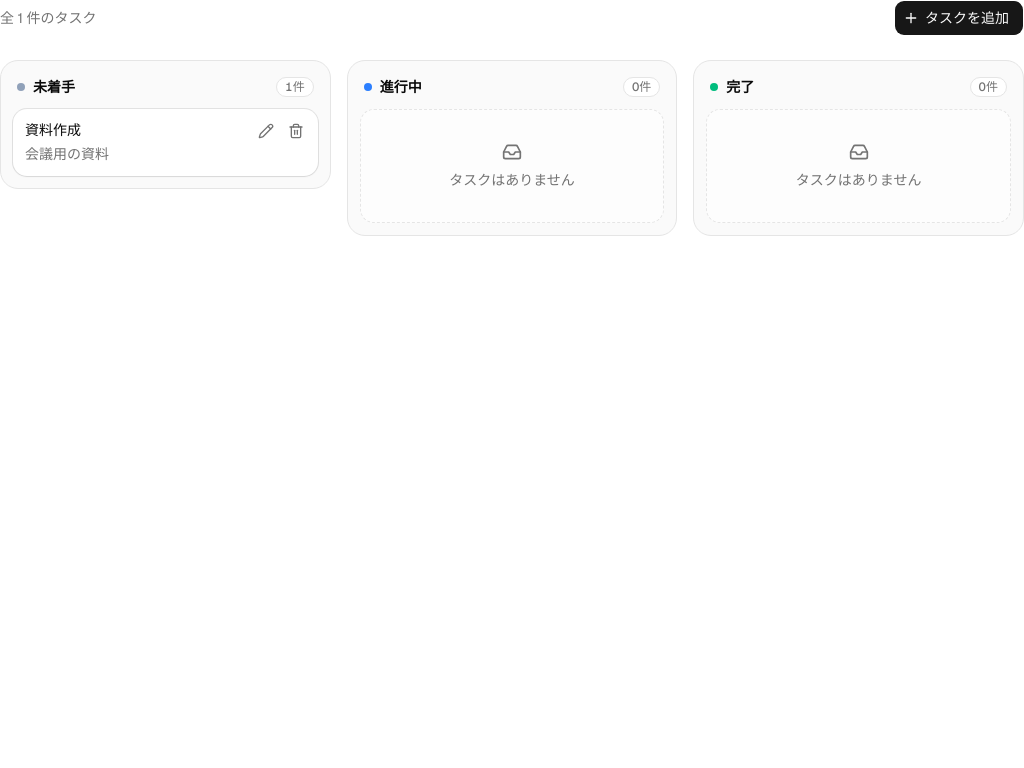
Test: KanbanBoard › 編集 › タイトルを空にして保存すると、エラーを表示して更新しない
Click the button named "「資料作成」を編集": (266, 131) top-left (252, 117), bottom-right (280, 145)
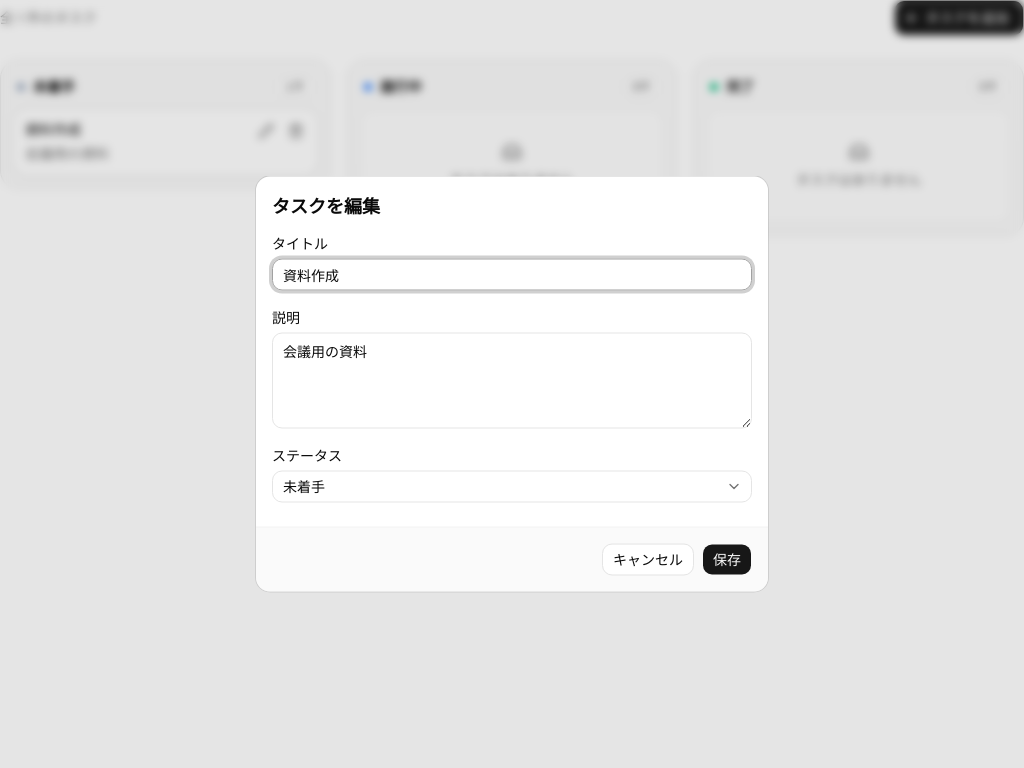
Clear the field labelled "タイトル": (512, 274) top-left (272, 258), bottom-right (752, 290)
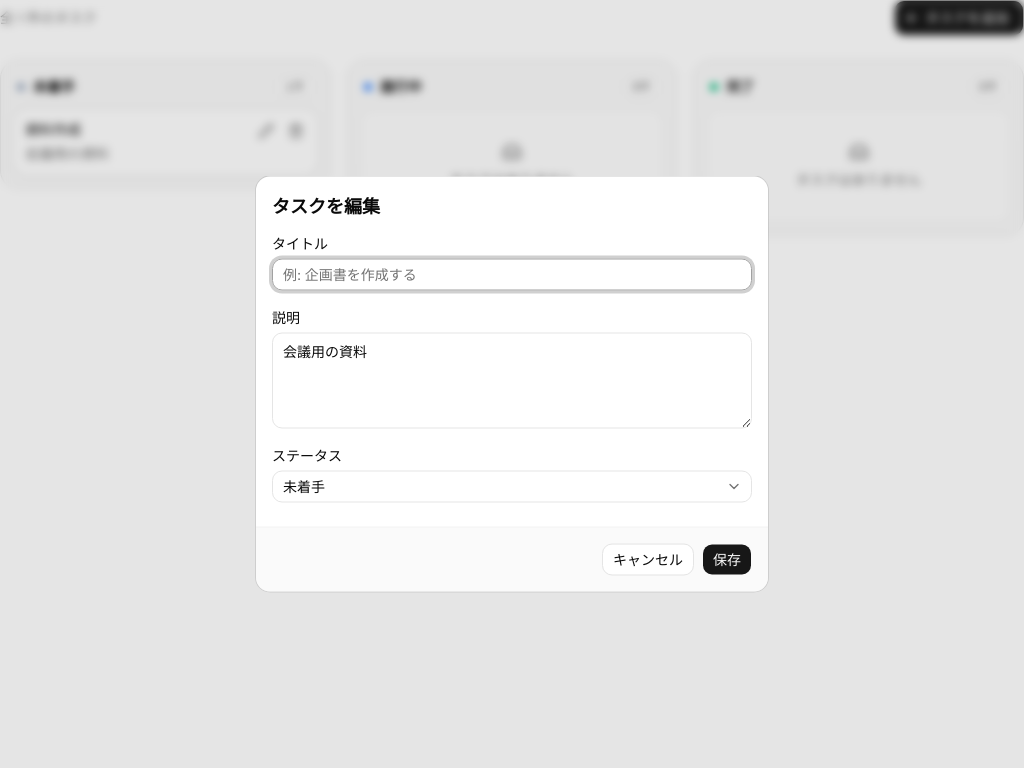
Click the button "保存": (727, 560) top-left (702, 544), bottom-right (752, 576)
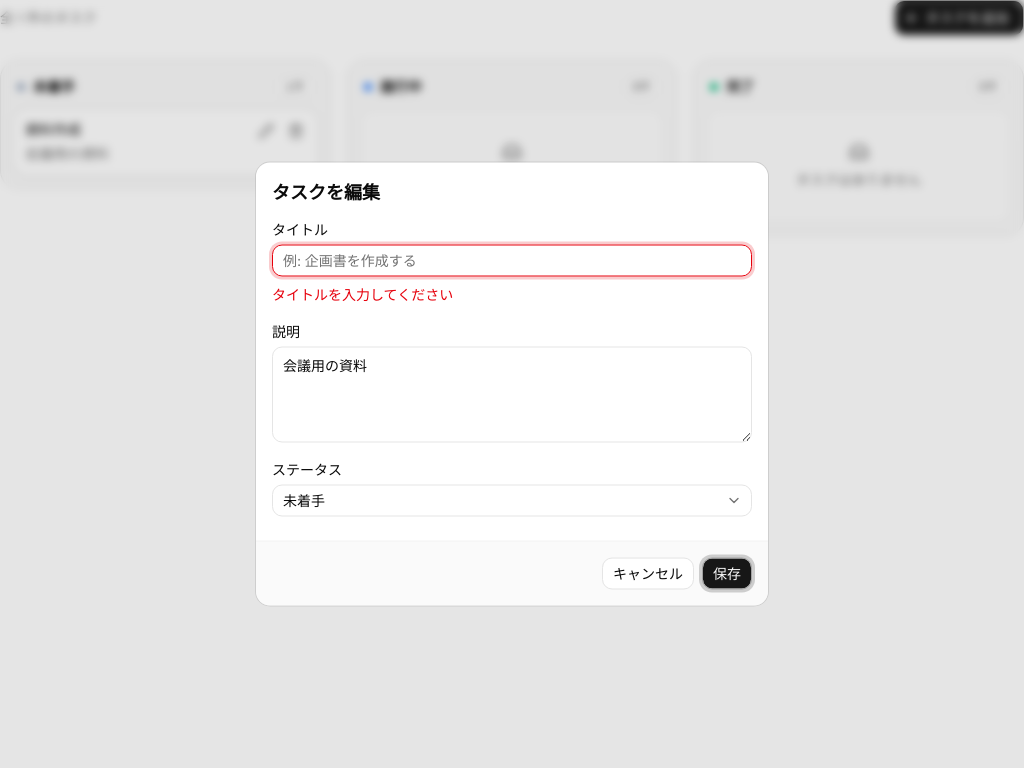
expect the text "タイトルを入力してください" is shown: met, box top-left (272, 286), bottom-right (453, 304)
